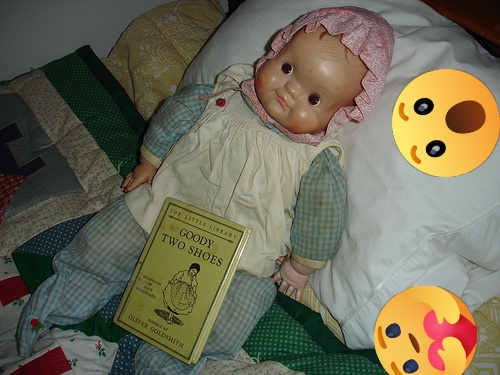care: (374, 286, 477, 375)
wow: (392, 69, 500, 177)
